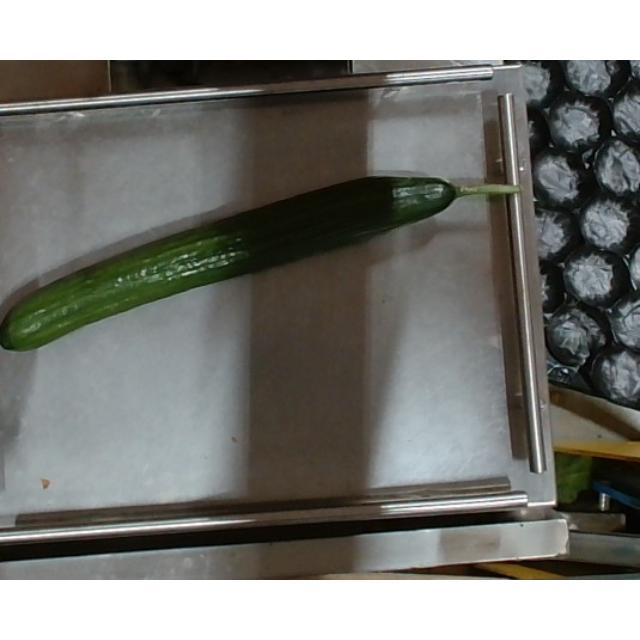cucumber: (0, 176, 522, 354)
